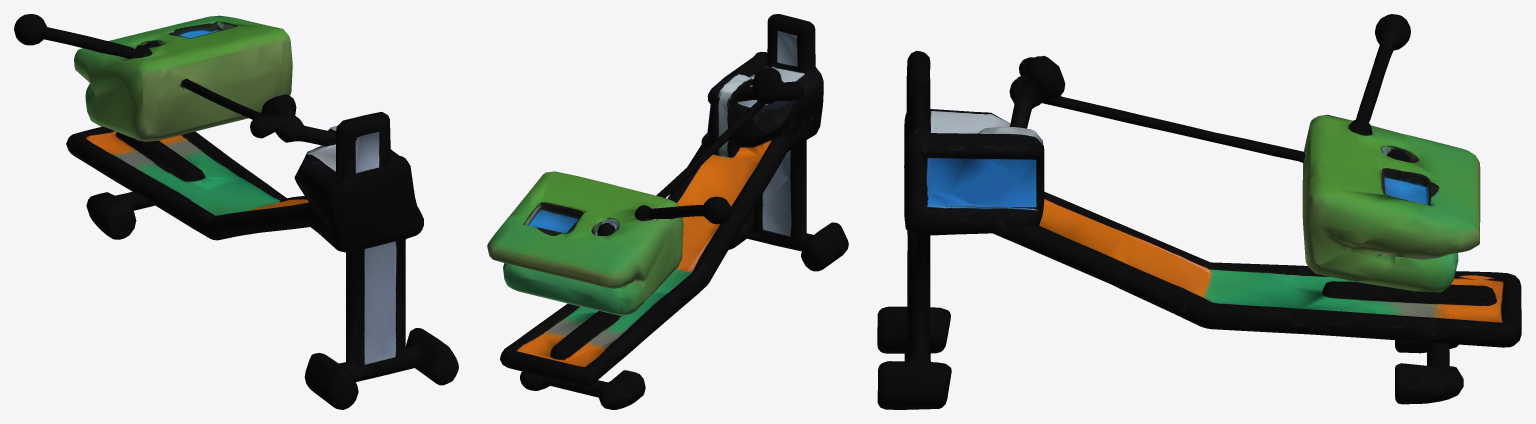
File: rowing-machine.glb
The picture shows the model from 3 angles, left to right: view 1: azimuth 30°, elevation 25°; view 2: azimuth 150°, elevation 25°; view 3: azimuth 270°, elevation 25°; orthographic projection. The views are drawn at different scales.
Parts seen in each view (by area): view 1: tripo_node_bd3d019b-c95b-446c-8333-a8e23913b01c; view 2: tripo_node_bd3d019b-c95b-446c-8333-a8e23913b01c; view 3: tripo_node_bd3d019b-c95b-446c-8333-a8e23913b01c.
Boxes of the visible parts, x1,y1,x2,y2 form: tripo_node_bd3d019b-c95b-446c-8333-a8e23913b01c: (14, 14, 458, 409); tripo_node_bd3d019b-c95b-446c-8333-a8e23913b01c: (487, 14, 848, 409); tripo_node_bd3d019b-c95b-446c-8333-a8e23913b01c: (877, 14, 1521, 409).
Bounding box in the file's own units: 0.5029 × 0.5327 × 0.9999.
Materials: 1 (1 with a texture image).
